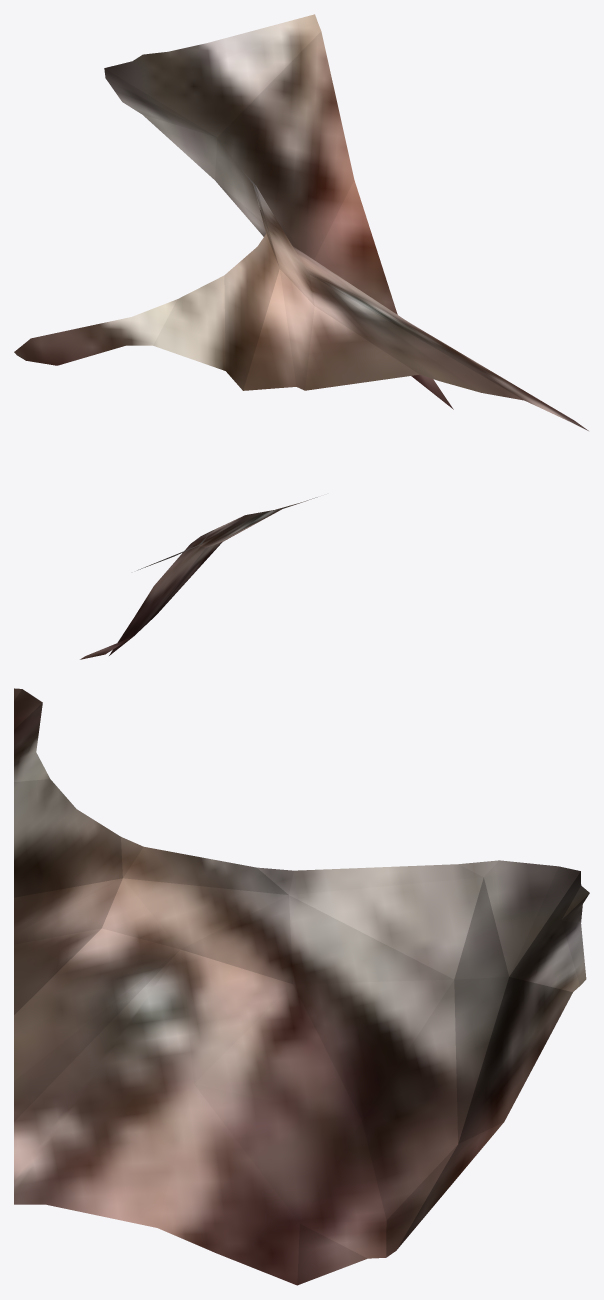
3 views of the same model, one above another, from view 1: azimuth 30°, elevation 25°; view 2: azimuth 150°, elevation 25°; view 3: azimuth 270°, elevation 25° (orthographic). The views are drawn at different scales.
Size of the model in its own units: 0.2043 by 0.1002 by 0.1709.
Materials: 1 (1 with a texture image).
